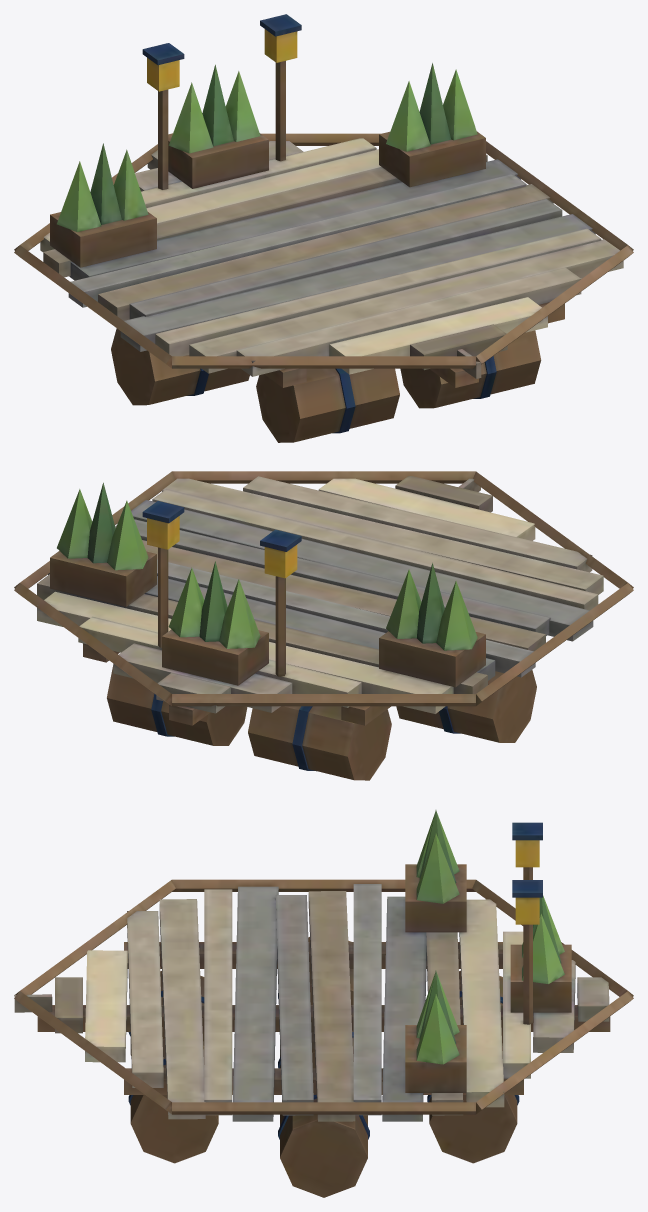
Rendered from raft-c-age1.glb.
The picture shows the model from 3 angles, top to bottom: view 1: azimuth 30°, elevation 25°; view 2: azimuth 150°, elevation 25°; view 3: azimuth 270°, elevation 25°; orthographic projection.
Visible parts, largest first — view 1: raft-c-age1; view 2: raft-c-age1; view 3: raft-c-age1.
Part boxes in pixels (x1,y1,x2,y2): raft-c-age1: (14, 14, 633, 442); raft-c-age1: (14, 471, 633, 780); raft-c-age1: (14, 810, 633, 1197).
Size of the model in its own units: 1.59 by 0.809 by 1.83.
Materials: 1 (1 with a texture image).
